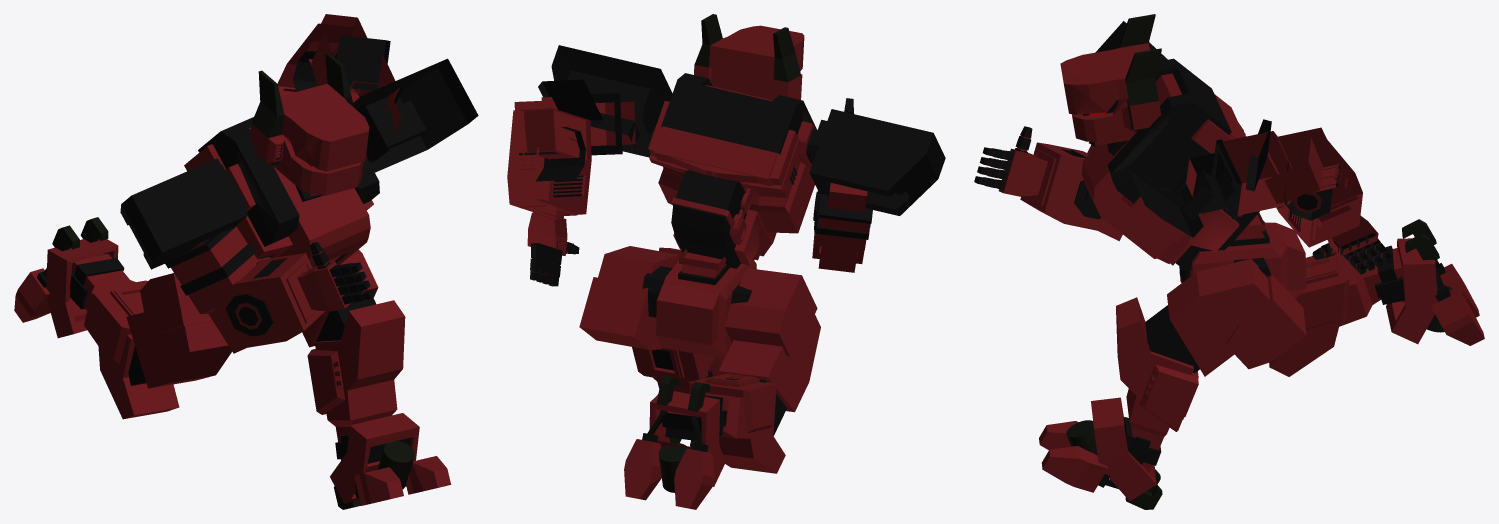
Rendered from walk0.obj.
The picture shows the model from 3 angles, left to right: view 1: azimuth 30°, elevation 25°; view 2: azimuth 150°, elevation 25°; view 3: azimuth 270°, elevation 25°; orthographic projection. The views are drawn at different scales.
Visible parts, largest first — view 1: R_UpperShoulder_Cube.030; view 2: R_UpperShoulder_Cube.030; view 3: R_UpperShoulder_Cube.030.
Part boxes in pixels (box(x1,y1,x2,y2)): R_UpperShoulder_Cube.030: box(14, 14, 478, 509); R_UpperShoulder_Cube.030: box(507, 14, 945, 509); R_UpperShoulder_Cube.030: box(974, 14, 1484, 509).
Bounding box in the file's own units: 1.44 × 1.73 × 1.82.
